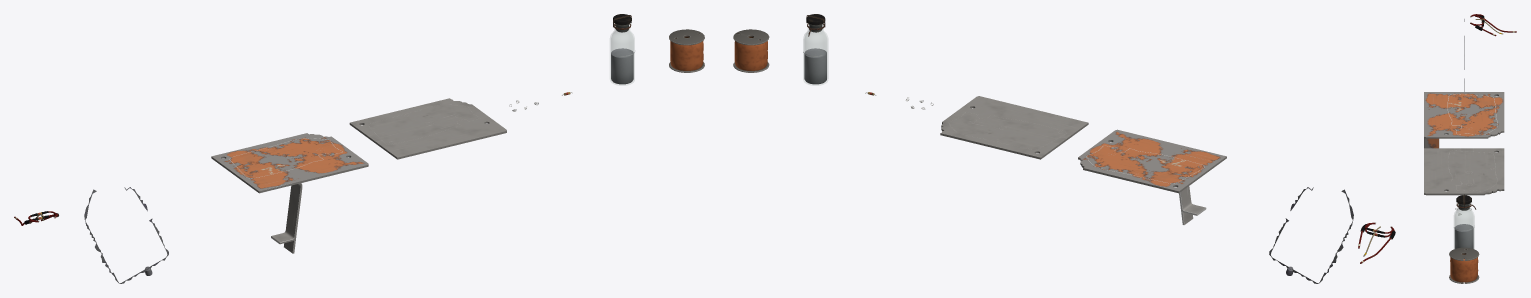
Rendered from materials.glb.
3 views of the same model, side by side, from view 1: azimuth 30°, elevation 25°; view 2: azimuth 150°, elevation 25°; view 3: azimuth 270°, elevation 25° (orthographic). The views are drawn at different scales.
Parts seen in each view (by area): view 1: materials_sheet_a_plate, materials_sheet_b_plate, materials_sheet_b, materials_sheet_a, materials_vial, materials_sheet_b_strap, materials_strap_bent, materials_sheet_a_strap, materials_bobbin_wire, materials_vial_fluid, materials_bobbin; view 2: materials_sheet_a_plate, materials_sheet_b_plate, materials_sheet_b, materials_sheet_a, materials_vial, materials_sheet_b_strap, materials_bobbin_wire, materials_vial_fluid, materials_strap_bent, materials_sheet_a_strap, materials_bobbin; view 3: materials_sheet_b_plate, materials_sheet_a_plate, materials_sheet_b, materials_sheet_a, materials_vial, materials_sheet_b_strap, materials_bobbin_wire, materials_sheet_a_strap, materials_vial_fluid, materials_bobbin, materials_strap_bent, materials_sheet_b_margin (+3 smaller).
Part boxes in pixels (<box>): materials_sheet_a_plate: <box>230,138,341,178</box>; materials_sheet_b_plate: <box>368,104,480,144</box>; materials_sheet_b: <box>349,98,506,152</box>; materials_sheet_a: <box>211,133,368,186</box>; materials_vial: <box>610,22,634,85</box>; materials_sheet_b_strap: <box>388,124,506,159</box>; materials_strap_bent: <box>250,176,302,244</box>; materials_sheet_a_strap: <box>259,158,367,193</box>; materials_bobbin_wire: <box>670,41,703,70</box>; materials_vial_fluid: <box>611,48,633,84</box>; materials_bobbin: <box>669,29,704,72</box>; materials_sheet_a_plate: <box>1087,145,1204,183</box>; materials_sheet_b_plate: <box>948,112,1066,149</box>; materials_sheet_b: <box>940,96,1079,159</box>; materials_sheet_a: <box>1078,129,1217,193</box>; materials_vial: <box>803,23,828,85</box>; materials_sheet_b_strap: <box>971,96,1088,130</box>; materials_bobbin_wire: <box>734,41,767,70</box>; materials_vial_fluid: <box>804,48,826,84</box>; materials_strap_bent: <box>1179,147,1226,215</box>; materials_sheet_a_strap: <box>1109,130,1225,162</box>; materials_bobbin: <box>733,29,769,72</box>; materials_sheet_b_plate: <box>1448,150,1497,191</box>; materials_sheet_a_plate: <box>1448,94,1497,134</box>; materials_sheet_b: <box>1424,148,1504,195</box>; materials_sheet_a: <box>1424,92,1504,138</box>; materials_vial: <box>1454,202,1476,248</box>; materials_sheet_b_strap: <box>1424,148,1439,192</box>; materials_bobbin_wire: <box>1450,257,1478,282</box>; materials_sheet_a_strap: <box>1424,92,1439,136</box>; materials_vial_fluid: <box>1454,224,1473,248</box>; materials_bobbin: <box>1449,247,1479,283</box>; materials_strap_bent: <box>1424,92,1439,148</box>; materials_sheet_b_margin: <box>1447,150,1497,191</box>.
Bounding box in the file's own units: 0.7245 × 0.1505 × 0.1042.
Materials: 2 (1 with a texture image).
